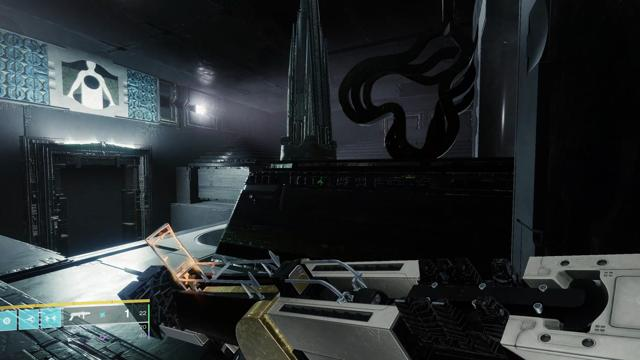grief: (61, 59, 120, 109)
